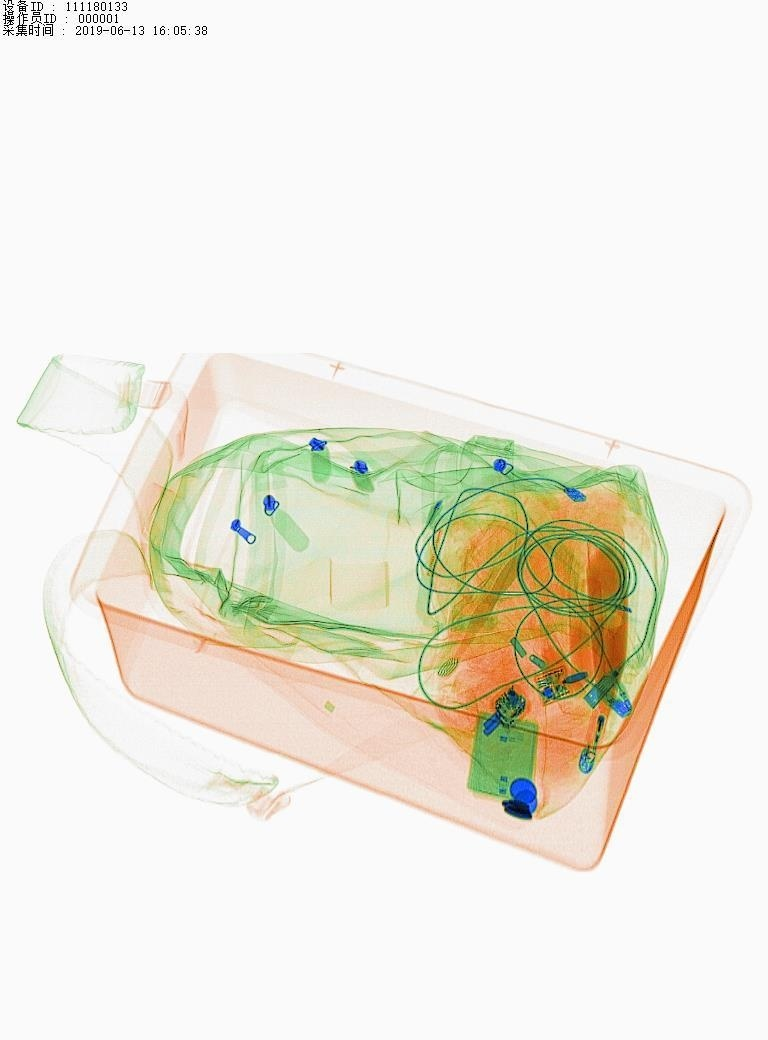NonmetallicFire: (568, 702, 608, 788)
